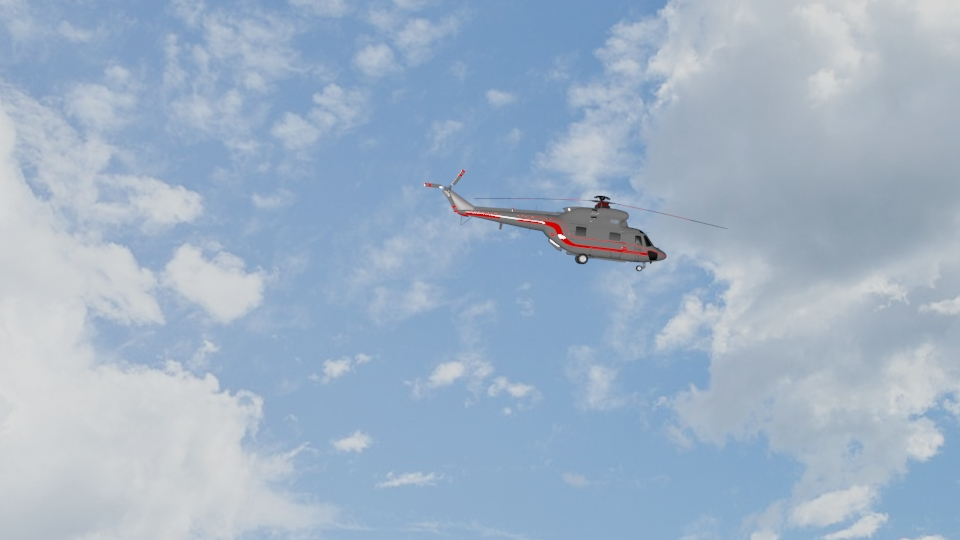heli: (423, 163, 672, 275)
